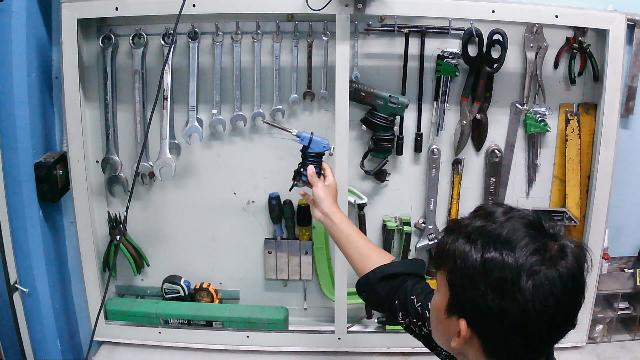solder_electrical: (259, 115, 334, 196)
